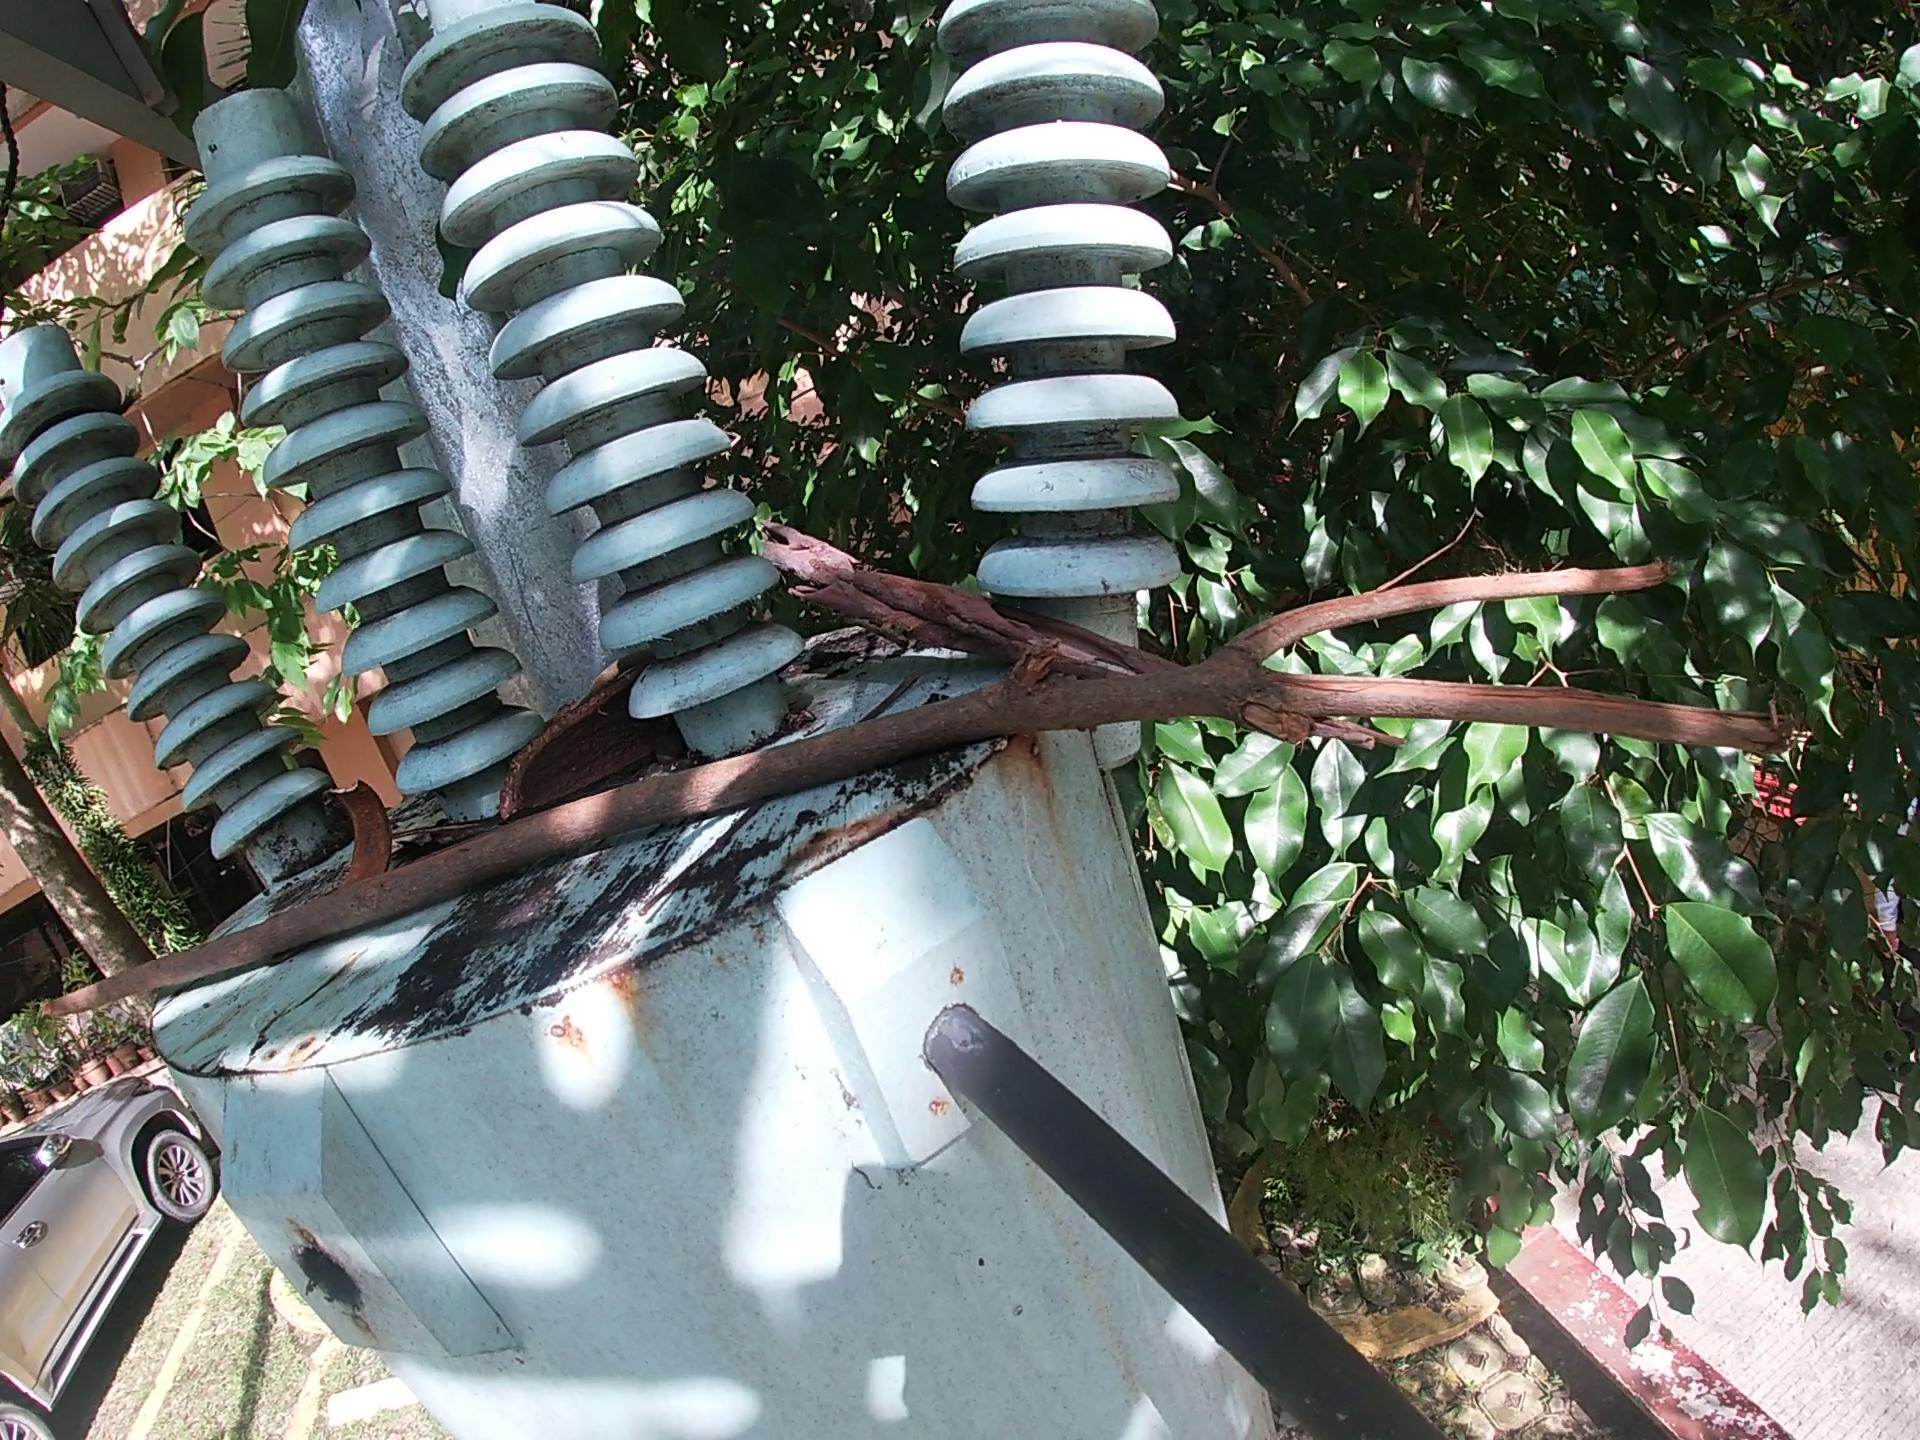mahogany fruit: (491, 666, 664, 821), (340, 767, 398, 879)
tree branch: (29, 534, 1844, 1023), (647, 661, 934, 917), (757, 513, 1179, 664), (567, 649, 655, 706), (398, 803, 485, 839)
